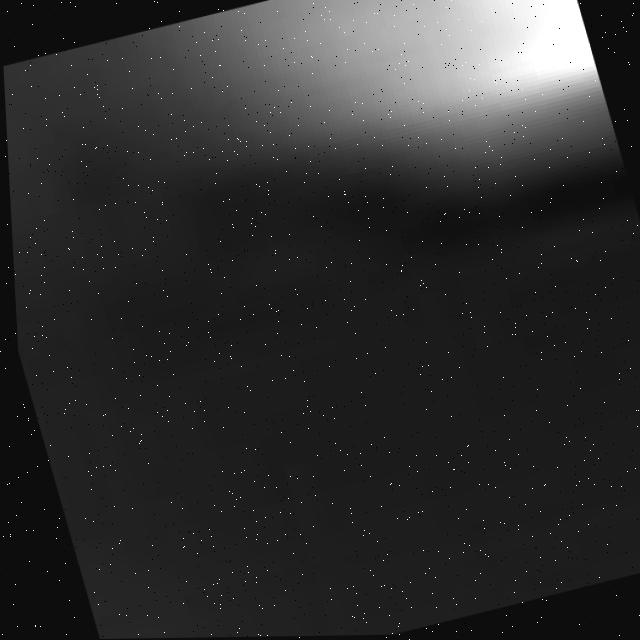person: (66, 1, 627, 285)
